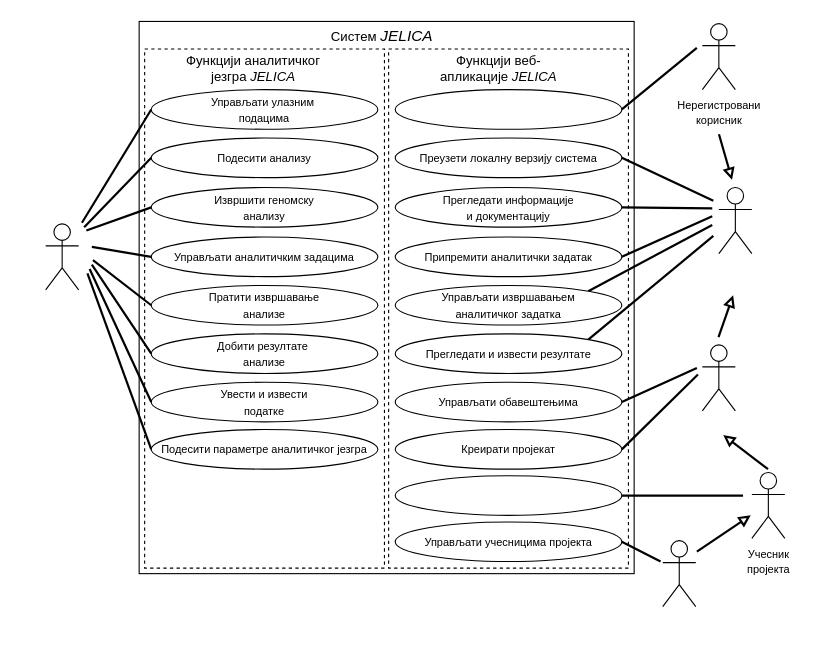
The diagram is 818 pixels wide and 648 high, and some of its shapes have lost their labels. Each missing label, with the box of its shape:
{abstract} Корисник веб-апликације: (718, 186, 752, 254)
Власник пројекта: (662, 540, 696, 607)
Користник интерфејса командне линије: (45, 223, 79, 290)
Регистровани корисник: (701, 344, 735, 411)
Регистровати се или се пријавити у систем: (394, 89, 622, 129)
Сарађивати на пројекту: (394, 475, 622, 515)
